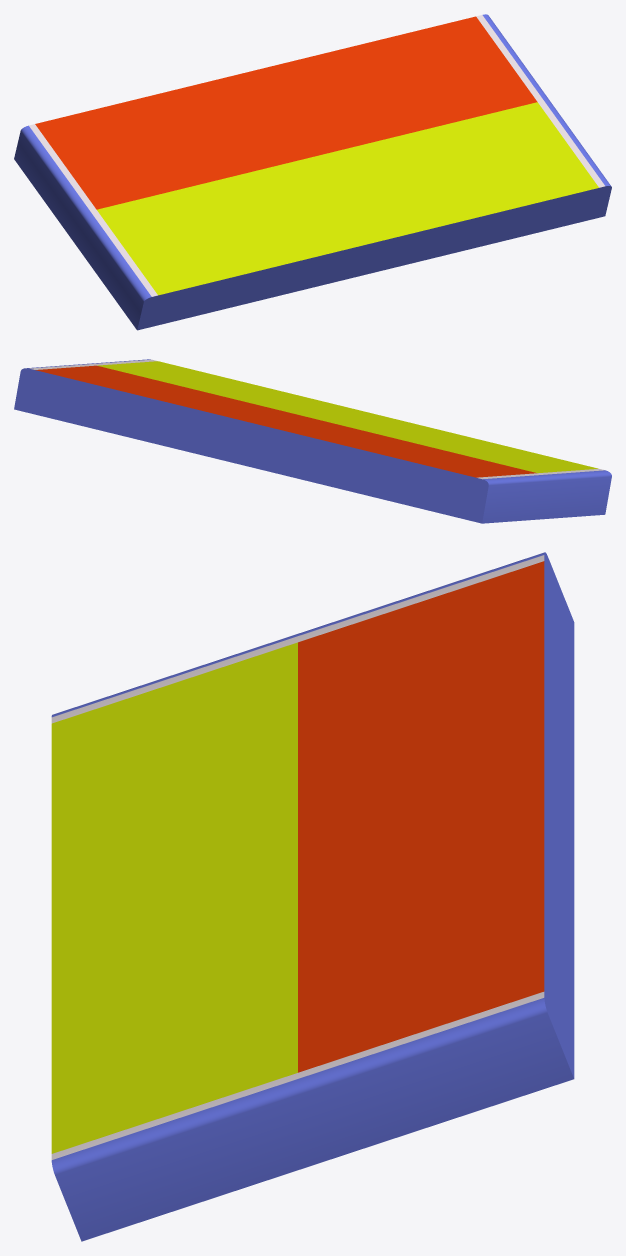
File: Genis_Yol_Duz_Yukari.fbx
The picture shows the model from 3 angles, top to bottom: view 1: azimuth 30°, elevation 25°; view 2: azimuth 150°, elevation 25°; view 3: azimuth 270°, elevation 25°; orthographic projection. The views are drawn at different scales.
Parts seen in each view (by area): view 1: Genis_Yol_Duz_Yukari; view 2: Genis_Yol_Duz_Yukari; view 3: Genis_Yol_Duz_Yukari.
Boxes of the visible parts, x1,y1,x2,y2 form: Genis_Yol_Duz_Yukari: [14, 14, 611, 330]; Genis_Yol_Duz_Yukari: [14, 359, 611, 523]; Genis_Yol_Duz_Yukari: [51, 552, 574, 1241].
Bounding box in the file's own units: 1856 × 449 × 897.
